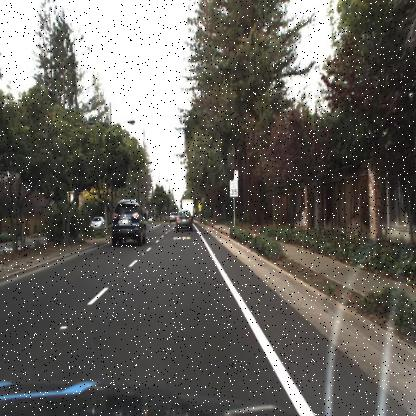car: (110, 197, 151, 251), (172, 206, 196, 234), (90, 216, 104, 233), (168, 209, 178, 225)
truck: (180, 196, 195, 218)
